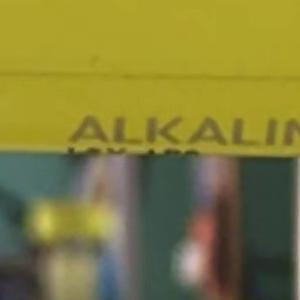keyword: (61, 109, 184, 152)
